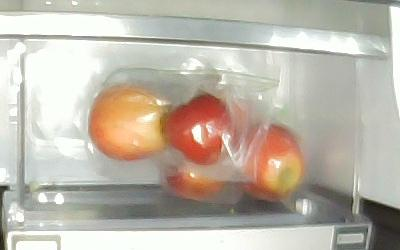apple_vinyl: (89, 85, 169, 161), (162, 94, 240, 166), (238, 122, 303, 200), (165, 162, 227, 200)
